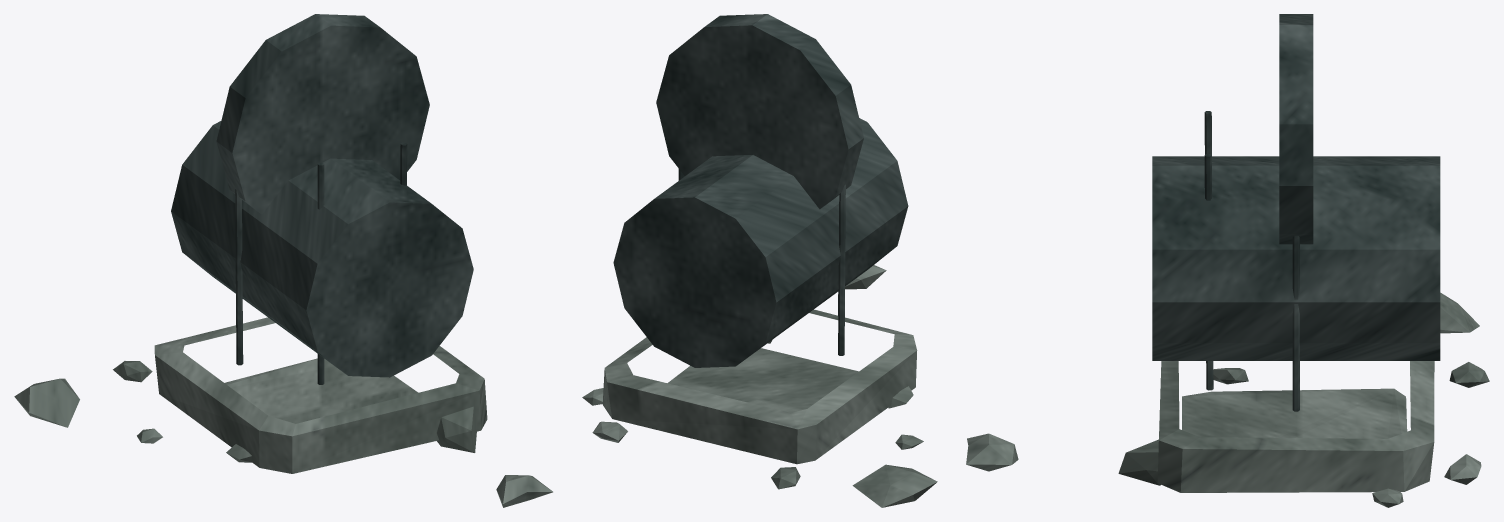
Rendered from 0254_broken_column_04.glb.
3 views of the same model, side by side, from view 1: azimuth 30°, elevation 25°; view 2: azimuth 150°, elevation 25°; view 3: azimuth 270°, elevation 25° (orthographic). The views are drawn at different scales.
Parts seen in each view (by area): view 1: stone_dark, stone; view 2: stone_dark, stone; view 3: stone_dark, stone.
Part boxes in pixels (x1,y1,x2,y2): stone_dark: (171,14,473,384); stone: (14,317,552,507); stone_dark: (613,14,908,367); stone: (582,265,937,507); stone_dark: (1152,14,1440,411); stone: (966,292,1489,507).
Size of the model in its own units: 2.03 by 2.04 by 2.32.
Materials: 2 (2 with a texture image).
